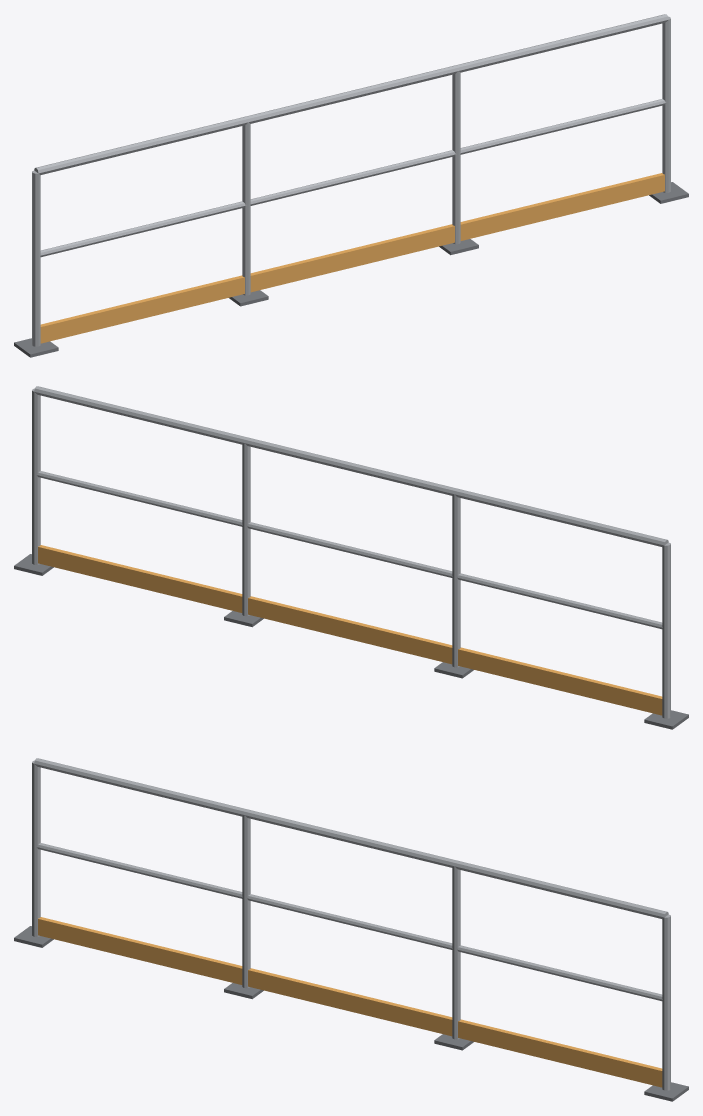
File: modular-greybox-architecture-kit-catwalk-rail-4m-9e38cbf6__22884.glb
3 views of the same model, one above another, from view 1: azimuth 30°, elevation 25°; view 2: azimuth 150°, elevation 25°; view 3: azimuth 330°, elevation 25° (orthographic).
Parts seen in each view (by area): view 1: catwalk-rail-4m; view 2: catwalk-rail-4m; view 3: catwalk-rail-4m.
Boxes of the visible parts, box(x1,y1,x2,y2) form: catwalk-rail-4m: box(14, 14, 688, 357); catwalk-rail-4m: box(14, 386, 688, 729); catwalk-rail-4m: box(14, 758, 688, 1101).
Bounding box in the file's own units: 4.18 × 1.09 × 0.1801.
